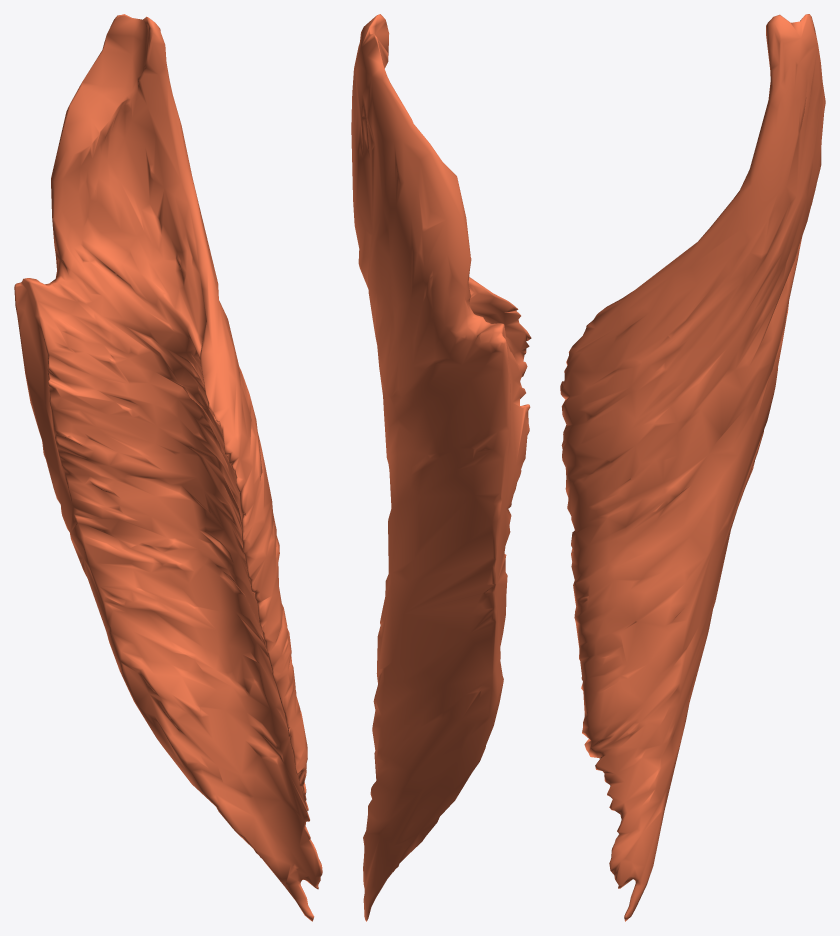
Rendered from Supinator.l_Generated_Mesh_From_X3D.172.glb.
3 renders of one model, left to right at view 1: azimuth 30°, elevation 25°; view 2: azimuth 150°, elevation 25°; view 3: azimuth 270°, elevation 25°, orthographic. The views are drawn at different scales.
Parts seen in each view (by area): view 1: Supinator.l_Generated_Mesh_From_X3D.172; view 2: Supinator.l_Generated_Mesh_From_X3D.172; view 3: Supinator.l_Generated_Mesh_From_X3D.172.
Part boxes in pixels (x1=…): Supinator.l_Generated_Mesh_From_X3D.172: x1=14, y1=14, x2=322, y2=921; Supinator.l_Generated_Mesh_From_X3D.172: x1=351, y1=14, x2=531, y2=921; Supinator.l_Generated_Mesh_From_X3D.172: x1=560, y1=14, x2=825, y2=921.
Bounding box in the file's own units: 0.0329 × 0.1279 × 0.0356.
